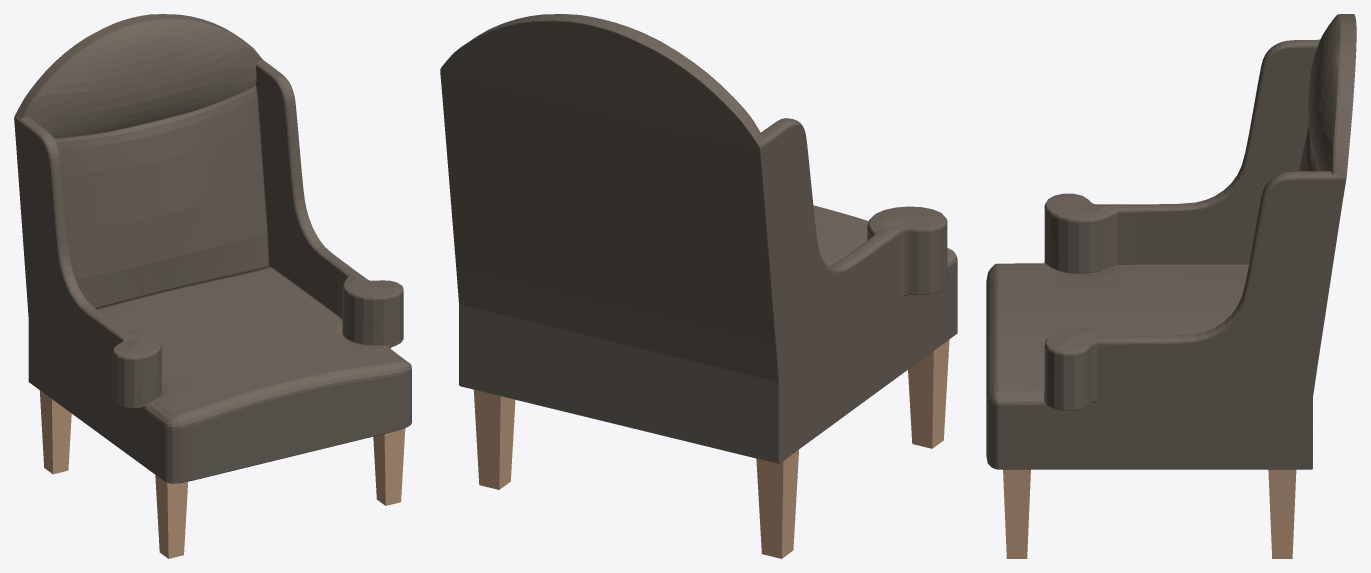
File: chair-by-cmht-oculus-5AOlTIK9NvX.glb
3 views of the same model, side by side, from view 1: azimuth 30°, elevation 25°; view 2: azimuth 150°, elevation 25°; view 3: azimuth 270°, elevation 25° (orthographic). The views are drawn at different scales.
Visible parts, largest first — view 1: Node; view 2: Node; view 3: Node.
Boxes of the visible parts, x1,y1,x2,y2 form: Node: (14,14,411,558); Node: (440,14,957,558); Node: (986,14,1356,558).
Bounding box in the file's own units: 37.18 × 49.87 × 36.27.
